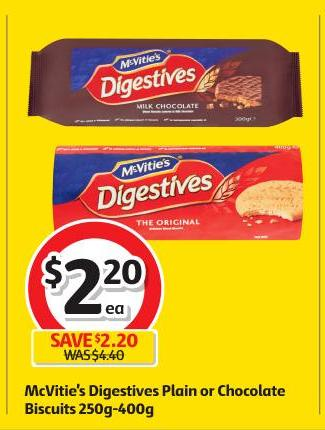description_block: (19, 375, 289, 424)
price_main: (15, 236, 178, 328)
product_image_block: (27, 30, 310, 246)
promo_text_block: (28, 328, 162, 368)
